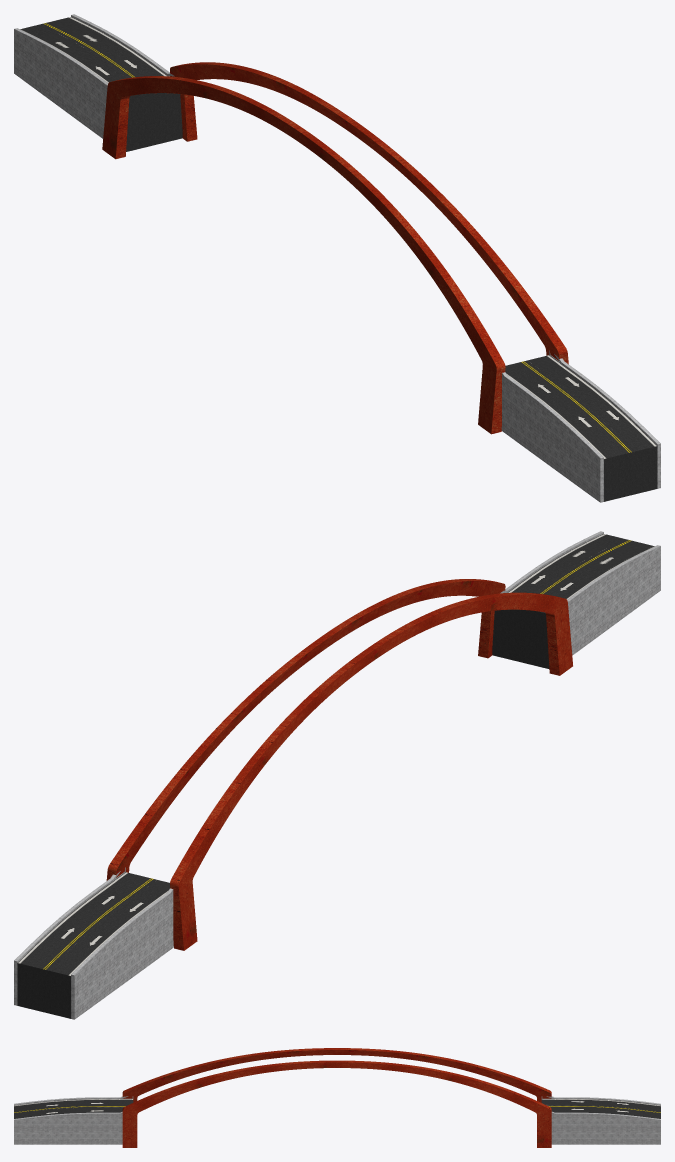
File: Bridge_1.obj
3 renders of one model, top to bottom at view 1: azimuth 30°, elevation 25°; view 2: azimuth 150°, elevation 25°; view 3: azimuth 270°, elevation 25°, orthographic. The views are drawn at different scales.
Parts seen in each view (by area): view 1: textureEditorIsolateSelectSet birchLimb2Main1 Draw, polySurface52 group46, polySurface52 group47, birchLimb2Main1 Draw; view 2: textureEditorIsolateSelectSet birchLimb2Main1 Draw, polySurface52 group47, polySurface52 group46, birchLimb2Main1 Draw; view 3: textureEditorIsolateSelectSet birchLimb2Main1 Draw, polySurface52 group47, polySurface52 group46, birchLimb2Main1 Draw.
Boxes of the visible parts, left/top/right/bottom form: textureEditorIsolateSelectSet birchLimb2Main1 Draw: left=108, top=62, right=566, bottom=367; polySurface52 group46: left=501, top=350, right=660, bottom=502; polySurface52 group47: left=14, top=14, right=182, bottom=151; birchLimb2Main1 Draw: left=102, top=68, right=568, bottom=434; textureEditorIsolateSelectSet birchLimb2Main1 Draw: left=108, top=579, right=566, bottom=883; polySurface52 group47: left=14, top=867, right=173, bottom=1019; polySurface52 group46: left=492, top=531, right=660, bottom=668; birchLimb2Main1 Draw: left=106, top=585, right=572, bottom=950; textureEditorIsolateSelectSet birchLimb2Main1 Draw: left=123, top=1048, right=551, bottom=1113; polySurface52 group47: left=541, top=1096, right=660, bottom=1144; polySurface52 group46: left=14, top=1096, right=133, bottom=1144; birchLimb2Main1 Draw: left=122, top=1092, right=551, bottom=1147.
Bounding box in the file's own units: 5.35 × 9.25 × 66.29.
1 material, 1 textured.
